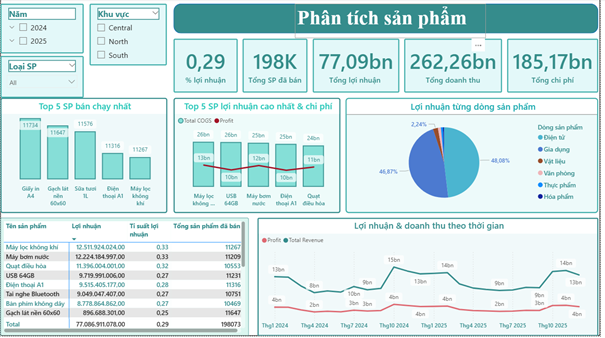

The dashboard page shown, as its layout file describes it:
{"tool":"powerbi","page":{"name":"Page 1","canvas":[1280,720],"ordinal":0},"visuals":[{"type":"pieChart","title":"Lợi nhuận từng dòng sản phẩm","fields":{"Category":["Product_Cleaned.Category"],"Y":["Measure_Table.Profit"]},"box":[735.8,210.6,539.6,246.7],"z":0},{"type":"pivotTable","fields":{"Rows":["Product_Cleaned.ProductName"],"Values":["Measure_Table.Profit","Measure_Table.%margin","Measure_Table.Total Quantity Sold"]},"box":[0,467.5,529.5,252.5],"z":1000},{"type":"lineChart","title":"Lợi nhuận & doanh thu theo thời gian","fields":{"Y":["Measure_Table.Profit","Measure_Table.Total Revenue"],"Category":["Calendar.Date.Variation.Date Hierarchy.Year","Calendar.Date.Variation.Date Hierarchy.Month"]},"box":[548.2,467.5,727.2,252.5],"z":2000},{"type":"card","fields":{"Values":["Measure_Table.Total Quantity Sold"]},"box":[516.9,85.1,138.5,115.4],"z":3000},{"type":"lineStackedColumnComboChart","title":"Top 5 SP lợi nhuận cao nhất & chi phí","fields":{"Category":["Product.ProductName"],"Y":["Measure_Table.Total COGS"],"Y2":["Measure_Table.Profit"]},"box":[369.3,210.6,356.4,246.7],"z":4000},{"type":"card","fields":{"Values":["Measure_Table.Profit"]},"box":[666.6,85.1,184.7,115.4],"z":5000},{"type":"card","fields":{"Values":["Measure_Table.Total COGS"]},"box":[1080.6,85.1,194.8,115.4],"z":6000},{"type":"card","fields":{"Values":["Measure_Table.Total Revenue"]},"box":[861.4,84.7,208.6,115.3],"z":7000},{"type":"lineStackedColumnComboChart","title":"Top 5 SP bán chạy nhất","fields":{"Category":["Product.ProductName"],"Y":["Measure_Table.Total Quantity Sold"]},"box":[0,211,355.8,246.6],"z":8000},{"type":"slicer","fields":{"Values":["Product.Category"]},"box":[0,121.2,177.5,89.5],"z":9000},{"type":"slicer","fields":{"Values":["Calendar.Date.Variation.Date Hierarchy.Year","Calendar.Date.Variation.Date Hierarchy.Month"]},"box":[0,10.1,177.5,106.8],"z":10000},{"type":"shape","box":[369.3,10.1,906.1,63.5],"z":11000},{"type":"textbox","box":[628.2,9.8,407.4,73.6],"z":12000},{"type":"slicer","fields":{"Values":["Customer.Region"]},"box":[190.6,10,165,132.3],"z":13000},{"type":"card","fields":{"Values":["Measure_Table.%margin"]},"box":[369.3,85.1,137.1,115.4],"z":14000}]}

Visuals, with their boxes in screenshot pixels (x1, y1, x2, y2), scaled from the page's 1280x720 canvas onto the 605x338 screenshot:
"Lợi nhuận từng dòng sản phẩm" pieChart: bbox=(348, 99, 603, 215)
pivotTable - Product_Cleaned.ProductName x Measure_Table.Profit: bbox=(0, 219, 250, 337)
"Lợi nhuận & doanh thu theo thời gian" lineChart: bbox=(259, 219, 603, 337)
card - Measure_Table.Total Quantity Sold: bbox=(244, 40, 310, 94)
"Top 5 SP lợi nhuận cao nhất & chi phí" lineStackedColumnComboChart: bbox=(175, 99, 343, 215)
card - Measure_Table.Profit: bbox=(315, 40, 402, 94)
card - Measure_Table.Total COGS: bbox=(511, 40, 603, 94)
card - Measure_Table.Total Revenue: bbox=(407, 40, 506, 94)
"Top 5 SP bán chạy nhất" lineStackedColumnComboChart: bbox=(0, 99, 168, 215)
slicer - Product.Category: bbox=(0, 57, 84, 99)
slicer - Calendar.Date.Variation.Date Hierarchy.Year x Calendar.Date.Variation.Date Hierarchy.Month: bbox=(0, 5, 84, 55)
shape: bbox=(175, 5, 603, 35)
textbox: bbox=(297, 5, 489, 39)
slicer - Customer.Region: bbox=(90, 5, 168, 67)
card - Measure_Table.%margin: bbox=(175, 40, 239, 94)
